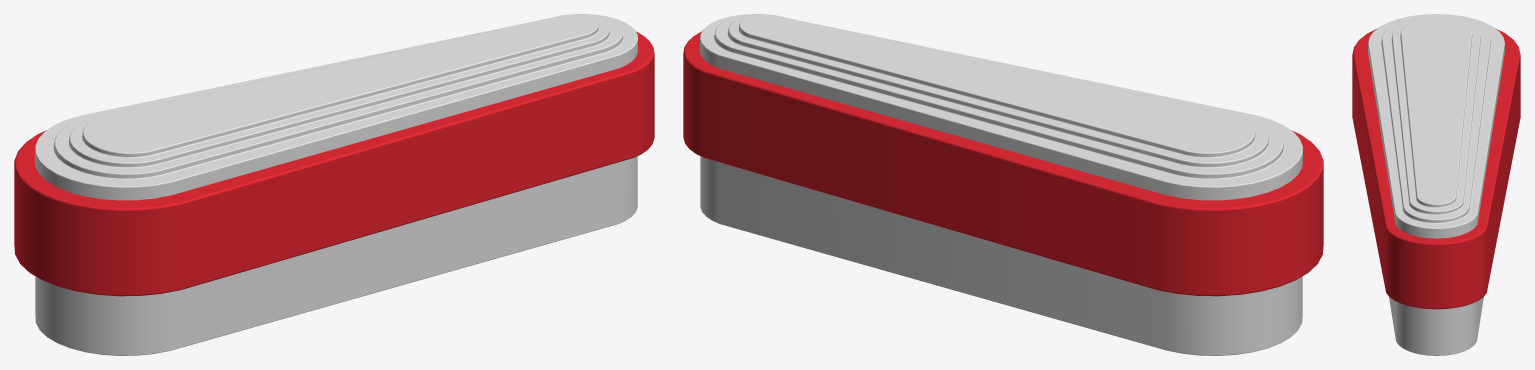
The model's file is Flipper, Gottlieb, Variant 1 (3in) - Hipoly.fbx.
3 renders of one model, left to right at view 1: azimuth 30°, elevation 25°; view 2: azimuth 150°, elevation 25°; view 3: azimuth 270°, elevation 25°, orthographic. The views are drawn at different scales.
Visible parts, largest first — view 1: Flipper, Gottlieb (3"); view 2: Flipper, Gottlieb (3"); view 3: Flipper, Gottlieb (3").
Part boxes in pixels (<box>): Flipper, Gottlieb (3"): <box>14,14,654,355</box>; Flipper, Gottlieb (3"): <box>683,14,1323,355</box>; Flipper, Gottlieb (3"): <box>1352,14,1520,355</box>.
Bounding box in the file's own units: 8.24 × 2.36 × 2.58.
